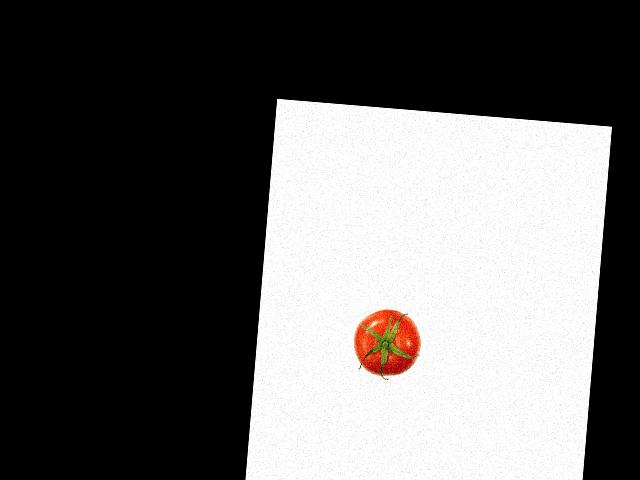tomato: (351, 306, 423, 378)
